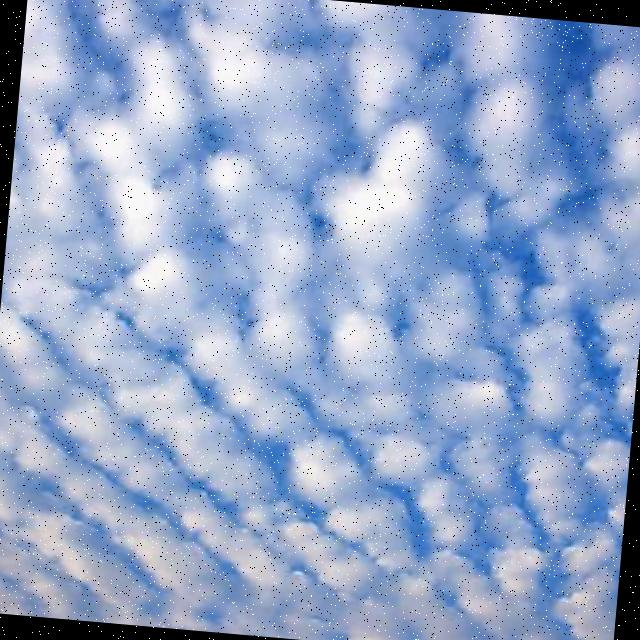Ac: (1, 1, 640, 552)
